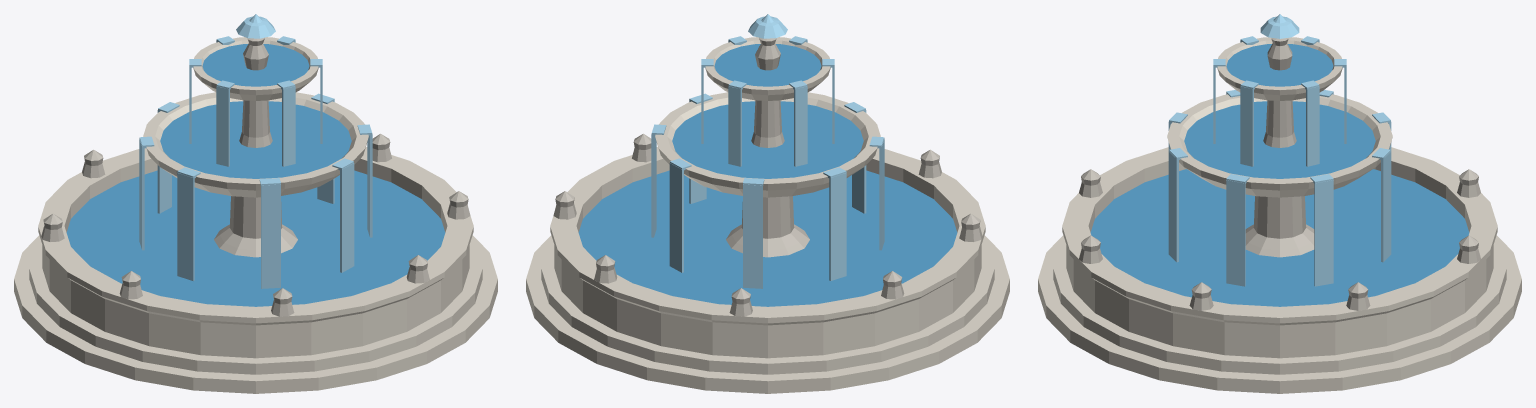
File: fountain.gltf
3 renders of one model, left to right at view 1: azimuth 30°, elevation 25°; view 2: azimuth 150°, elevation 25°; view 3: azimuth 270°, elevation 25°, orthographic.
Parts seen in each view (by area): view 1: Fountain; view 2: Fountain; view 3: Fountain.
Part boxes in pixels (box(x1,y1,x2,y2)): Fountain: box(14, 14, 497, 393); Fountain: box(526, 14, 1009, 393); Fountain: box(1038, 14, 1521, 393).
Size of the model in its own units: 4.8 by 3.04 by 4.8.
